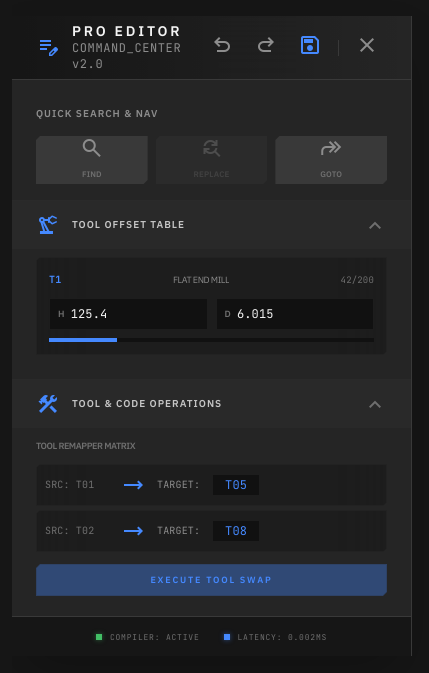
EditSidebar › Goto › shows an error and does not highlight anything for a line number that does not exist
Click the button "GOTO" at [331, 160], box [275,136,387,184]
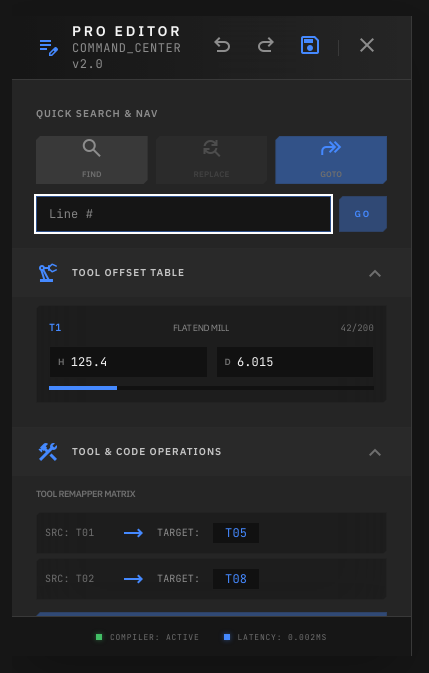
Type "999" into the field named "Go to line number" at [183, 214], box [36,196,331,232]
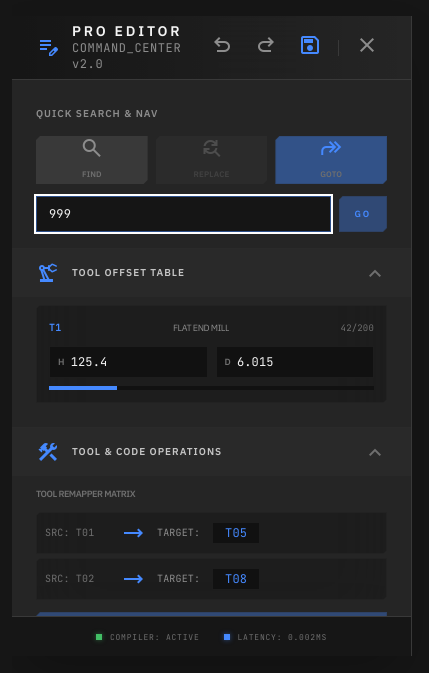
Click the button with aria-label "Go to line" at [363, 214], box [339,196,387,232]
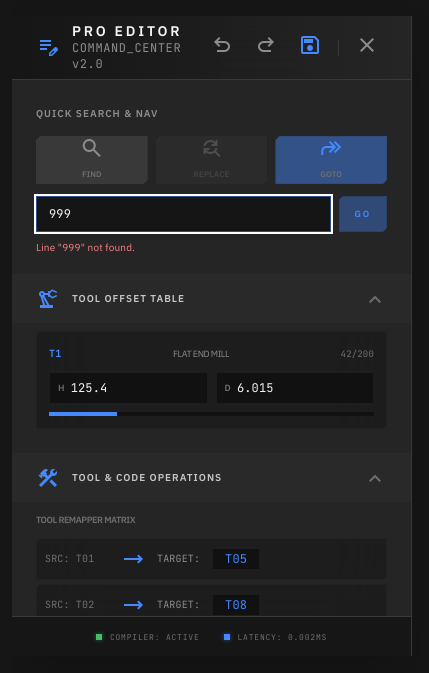
Expected: the text "Line \"999\" not found." is shown, [36,241,135,254]
